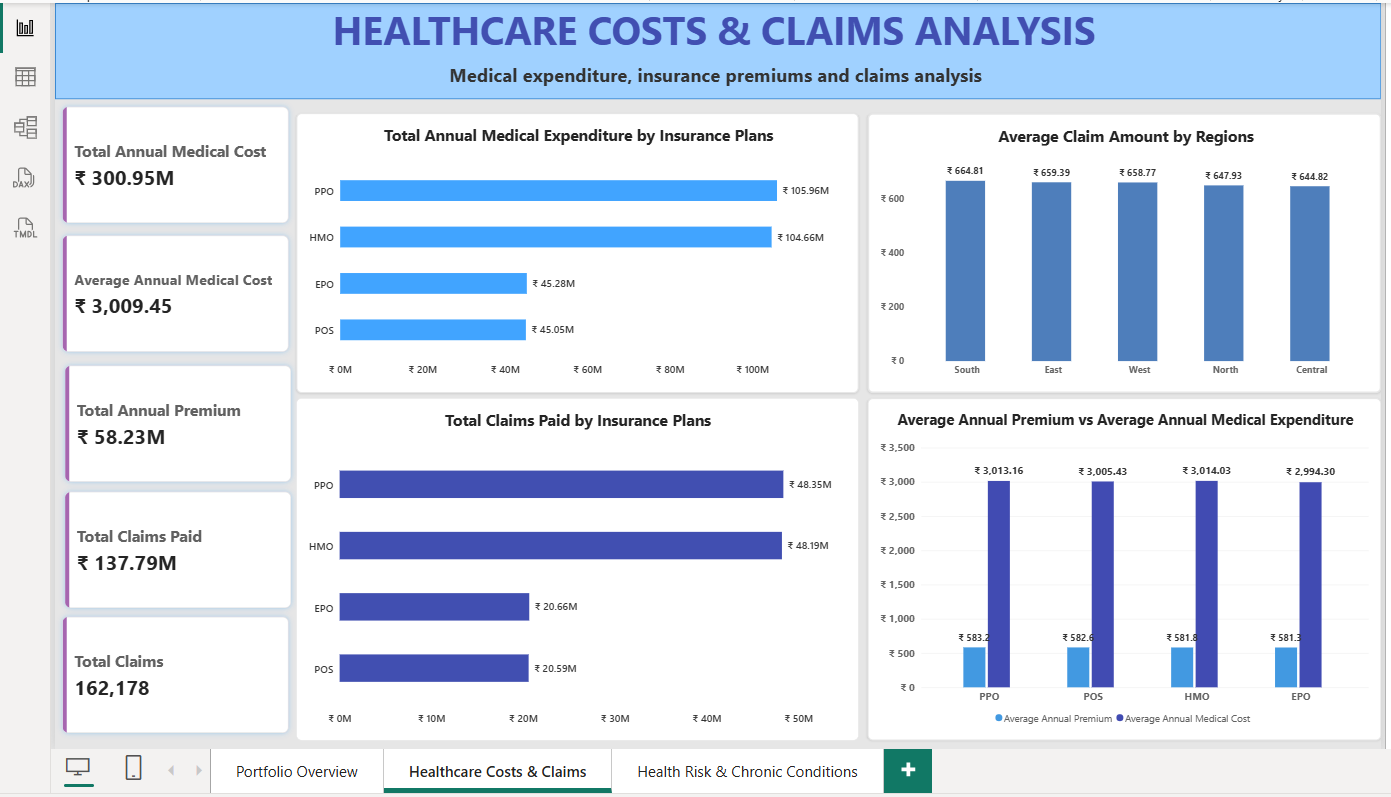

The dashboard page shown, as its layout file describes it:
{"tool":"powerbi","page":{"name":"Healthcare Costs & Claims","canvas":[1920,1080],"ordinal":1},"visuals":[{"type":"textbox","box":[10,0,280,280],"z":0},{"type":"shape","box":[0,0,1920.1,139.3],"z":1000},{"type":"textbox","box":[401.7,0,1272.2,85.1],"z":2000},{"type":"textbox","box":[401.7,85.1,1089.4,41.6],"z":3000},{"type":"cardVisual","fields":{"Data":["medical_insurance.Average Annual Medical Cost"]},"box":[0,325.7,349.3,190],"z":4000},{"type":"cardVisual","fields":{"Data":["medical_insurance.Total Claims Paid"]},"box":[3.6,696.7,349.3,190],"z":5000},{"type":"cardVisual","fields":{"Data":["medical_insurance.Total Claims"]},"box":[0,877.7,349.3,190],"z":6000},{"type":"cardVisual","fields":{"Data":["medical_insurance.Total Annual Medical Cost"]},"box":[0,139.3,349.3,190],"z":7000},{"type":"clusteredBarChart","title":"Total Annual Medical Expenditure by Insurance Plans","fields":{"Category":["medical_insurance.plan_type"],"Y":["medical_insurance.Total Annual Medical Cost"]},"box":[349.3,159.3,814.3,405.4],"z":8000},{"type":"clusteredBarChart","title":"Total Claims Paid by Insurance Plans","fields":{"Category":["medical_insurance.plan_type"],"Y":["medical_insurance.Total Claims Paid"]},"box":[349.3,571.9,814.3,495.8],"z":9000},{"type":"clusteredColumnChart","title":"Average Claim Amount by Regions","fields":{"Category":["medical_insurance.region"],"Y":["medical_insurance.Average Claim Amount"]},"box":[1176.3,159.3,743.8,405.4],"z":10000},{"type":"clusteredColumnChart","title":"Average Annual Premium vs Average Annual Medical Expenditure","fields":{"Category":["medical_insurance.plan_type"],"Y":["medical_insurance.Average Annual Premium","medical_insurance.Average Annual Medical Cost"]},"box":[1176.3,571.9,743.8,495.8],"z":11000},{"type":"cardVisual","fields":{"Data":["medical_insurance.Total Annual Premium"]},"box":[3.6,513.9,349.3,190],"z":12000}]}

Visuals, with their boxes on the page's 1920x1080 design canvas (x1, y1, x2, y2). These are canvas units, not pixel positions in the 1391x797 screenshot, which may show the page scaled, cropped or inside an application window:
textbox: (x1=10, y1=0, x2=290, y2=280)
shape: (x1=0, y1=0, x2=1920, y2=139)
textbox: (x1=402, y1=0, x2=1674, y2=85)
textbox: (x1=402, y1=85, x2=1491, y2=127)
cardVisual - medical_insurance.Average Annual Medical Cost: (x1=0, y1=326, x2=349, y2=516)
cardVisual - medical_insurance.Total Claims Paid: (x1=4, y1=697, x2=353, y2=887)
cardVisual - medical_insurance.Total Claims: (x1=0, y1=878, x2=349, y2=1068)
cardVisual - medical_insurance.Total Annual Medical Cost: (x1=0, y1=139, x2=349, y2=329)
"Total Annual Medical Expenditure by Insurance Plans" clusteredBarChart: (x1=349, y1=159, x2=1164, y2=565)
"Total Claims Paid by Insurance Plans" clusteredBarChart: (x1=349, y1=572, x2=1164, y2=1068)
"Average Claim Amount by Regions" clusteredColumnChart: (x1=1176, y1=159, x2=1920, y2=565)
"Average Annual Premium vs Average Annual Medical Expenditure" clusteredColumnChart: (x1=1176, y1=572, x2=1920, y2=1068)
cardVisual - medical_insurance.Total Annual Premium: (x1=4, y1=514, x2=353, y2=704)
